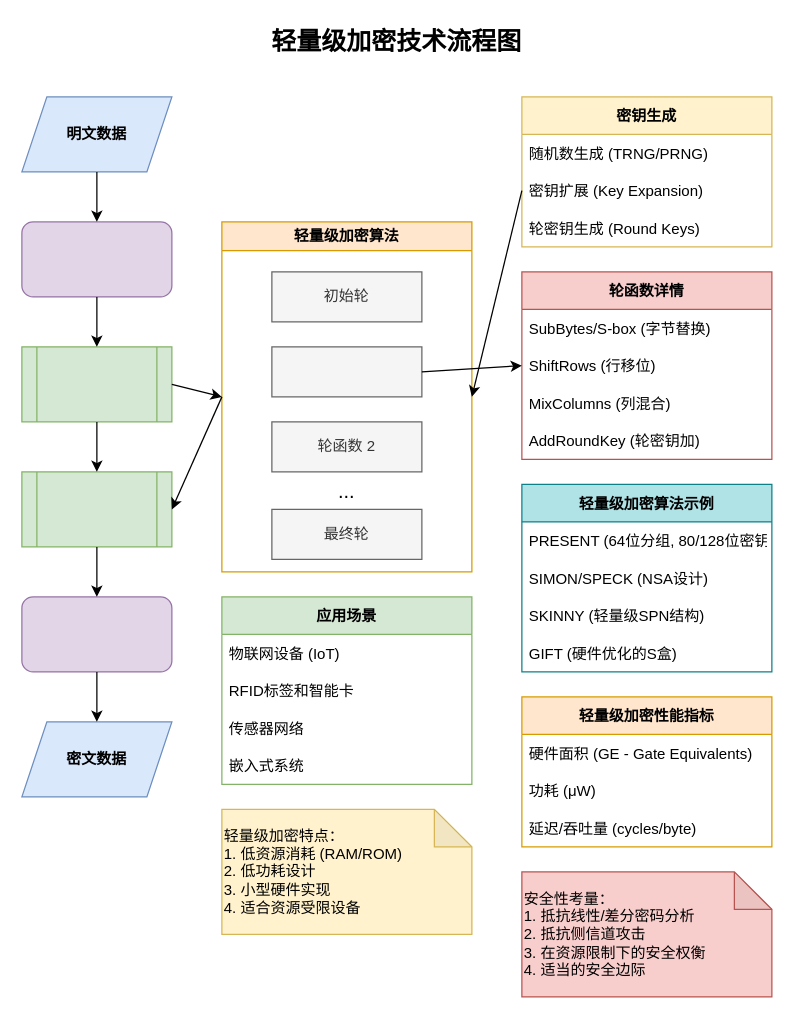
This 795x1019 diagram has some shape labels left out. The shapes that lost their labels are listed below. From the top down, each one's centre as x and y in pixels, then its label:
At point 96,259: "预处理".
At point 96,384: "数据分组".
At point 346,371: "轮函数 1".
At point 96,509: "合并分组".
At point 96,634: "后处理".
